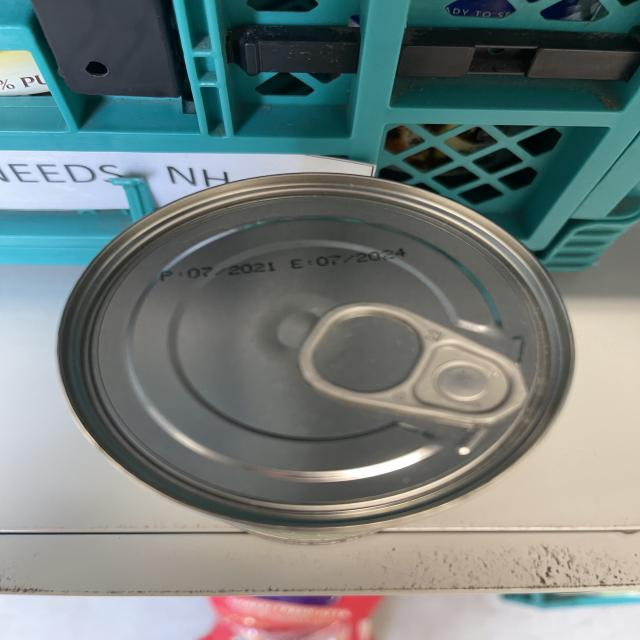object_name: (65, 178, 571, 518)
